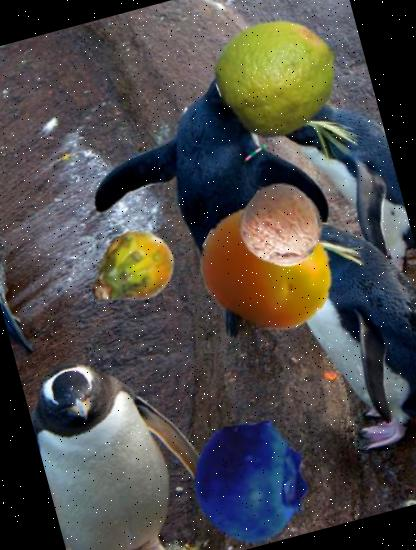Cactus: (79, 218, 188, 327)
Cherry: (184, 184, 352, 350)
Huckleberry: (178, 410, 323, 550)
Limes: (204, 2, 354, 153)
Walnut: (232, 176, 334, 278)
